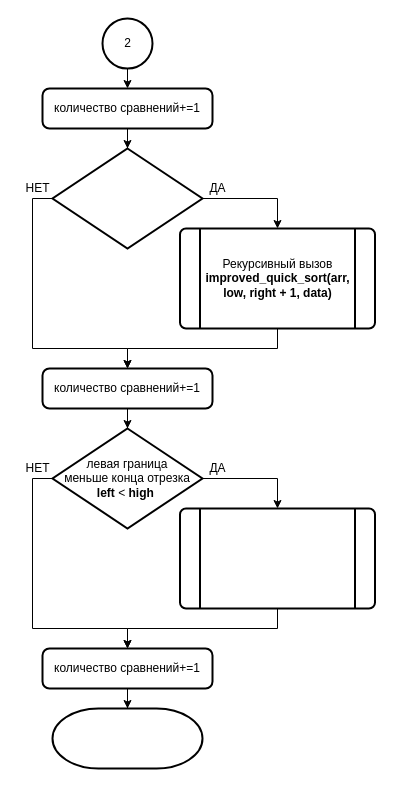
This 393x786 diagram has some shape labels left out. Each missing label, with the box of its shape:
Начало improved_quick_sort: (51, 707, 203, 769)
правая граница больше начала right > low: (51, 147, 203, 249)
Рекурсивный вызов improved_quick_sort(arr, left, high, data): (178, 507, 376, 609)
